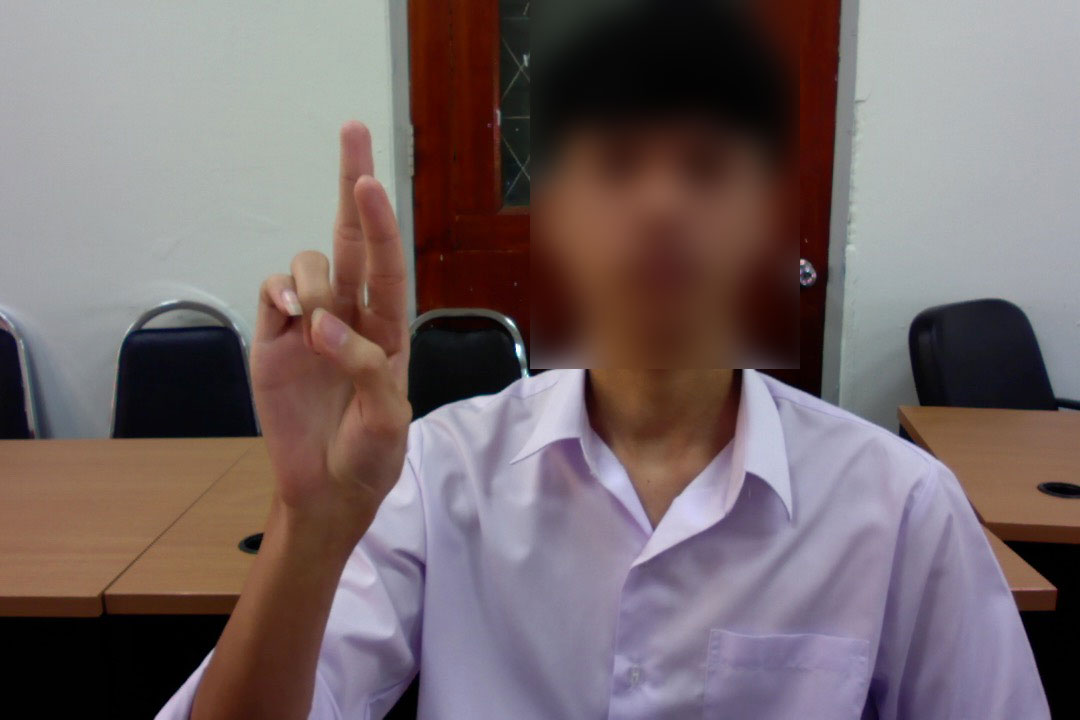rao: (228, 113, 434, 517)
